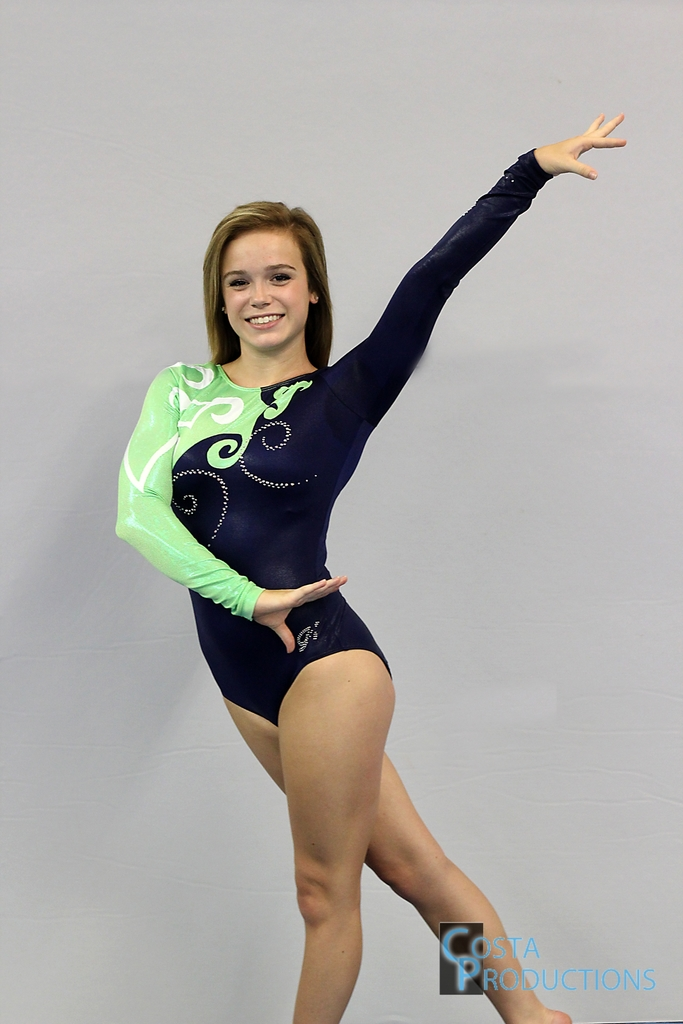Person: (113, 111, 627, 1024)
